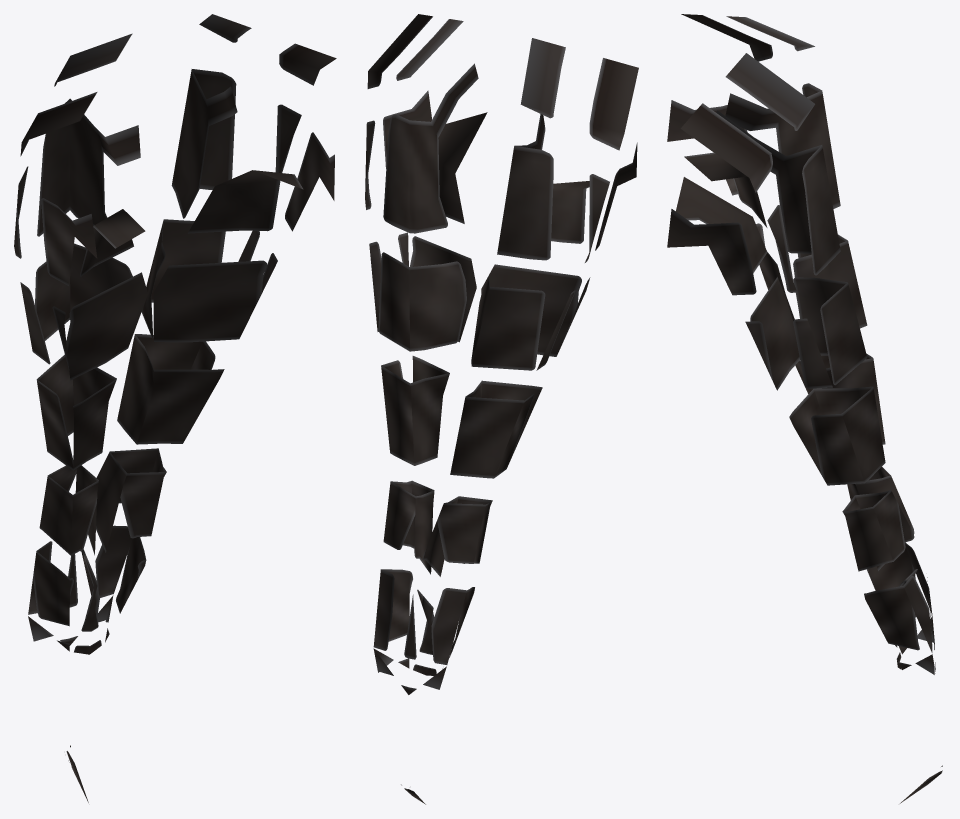
The model's file is zapo_fem_hair_2.dae.
3 renders of one model, left to right at view 1: azimuth 30°, elevation 25°; view 2: azimuth 150°, elevation 25°; view 3: azimuth 270°, elevation 25°, orthographic. The views are drawn at different scales.
Parts seen in each view (by area): view 1: head_female_shorthair.004; view 2: head_female_shorthair.004; view 3: head_female_shorthair.004.
Boxes of the visible parts, x1,y1,x2,y2 form: head_female_shorthair.004: (14,14,336,802); head_female_shorthair.004: (365,14,638,804); head_female_shorthair.004: (667,14,942,803).
Bounding box in the file's own units: 0.3566 × 0.3153 × 0.9614.
